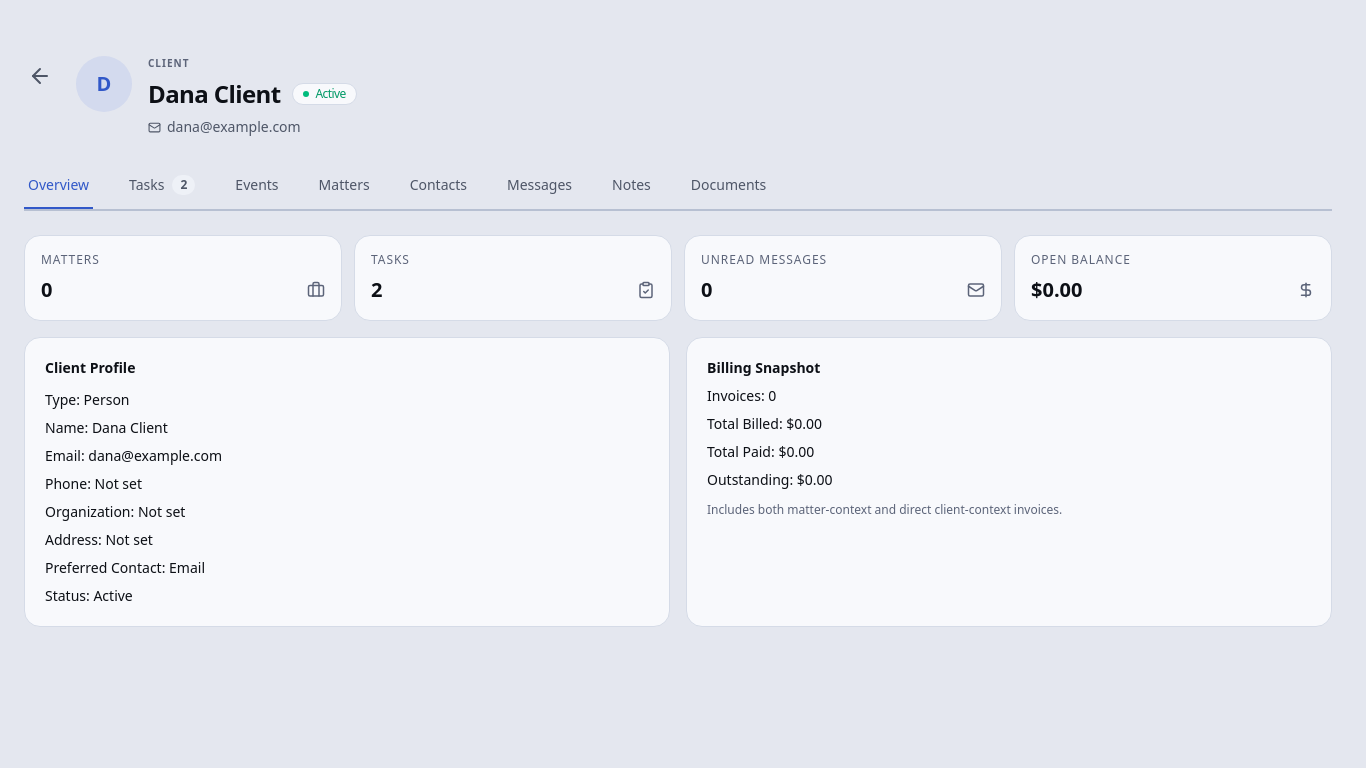
Test: deleting a task from the client page › offers no delete action to a member who cannot delete tasks
This screenshot has width=1366, height=768.
Check: the heading "Dana Client Active" is shown, box [148,77,357,110]
Click the 1st button "Tasks 2" at (162, 186), box [125,163,199,209]
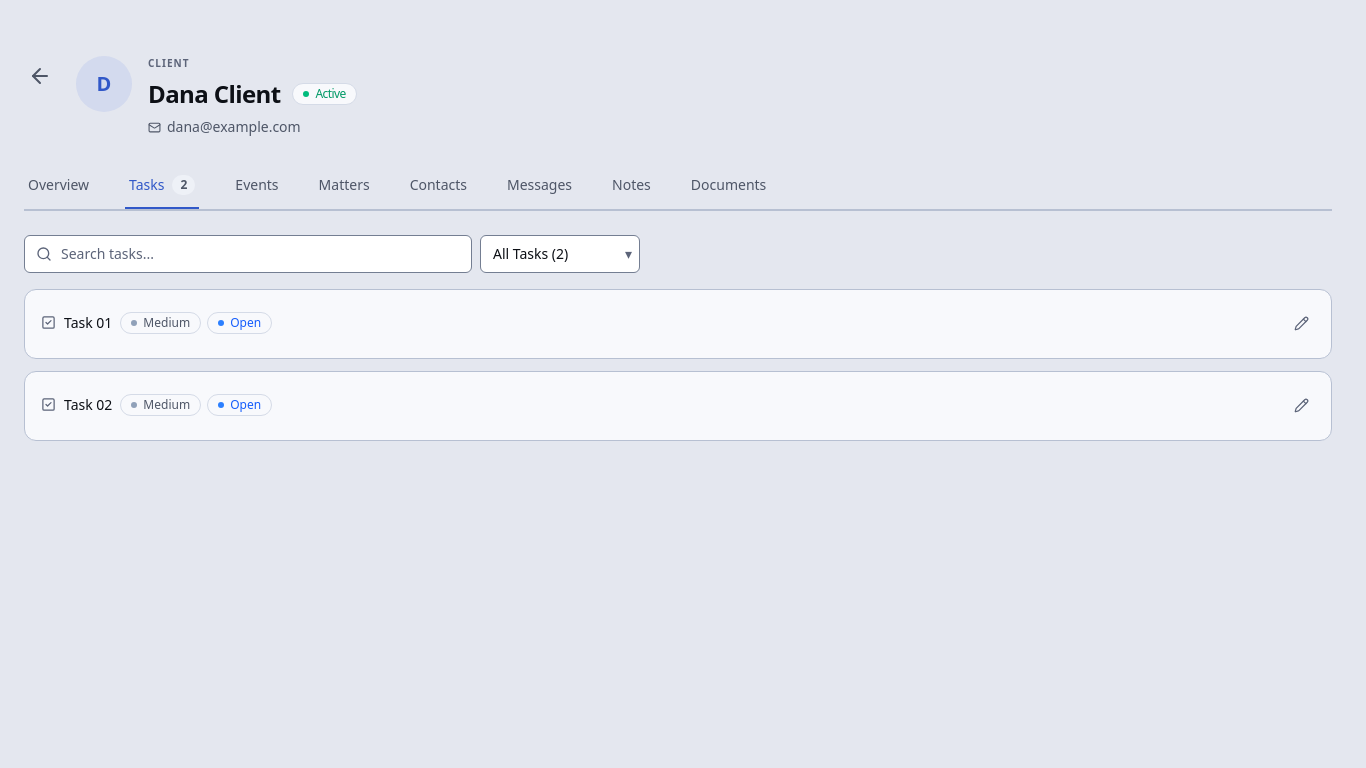
Check: the text "Task 01" is shown, box [41,313,112,333]
Check: the button named "Edit Task 01" is shown, box [1288,310,1315,337]
